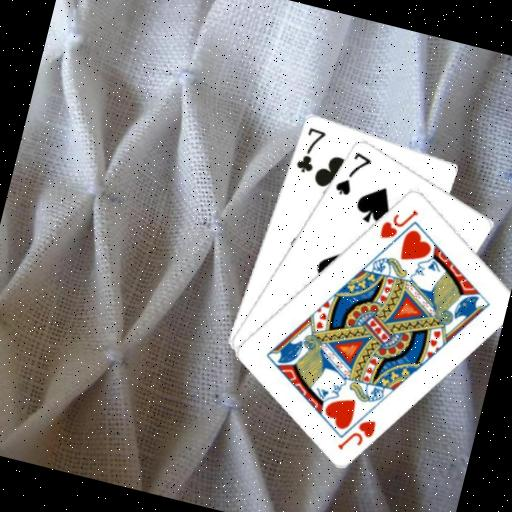7C: (292, 122, 329, 177)
7S: (330, 144, 374, 201)
JH: (375, 199, 421, 247), (334, 410, 380, 458)
